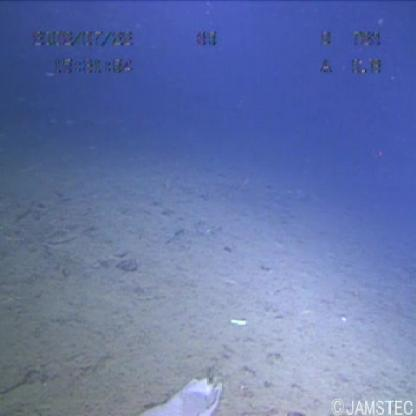Rác: (127, 368, 233, 416)
